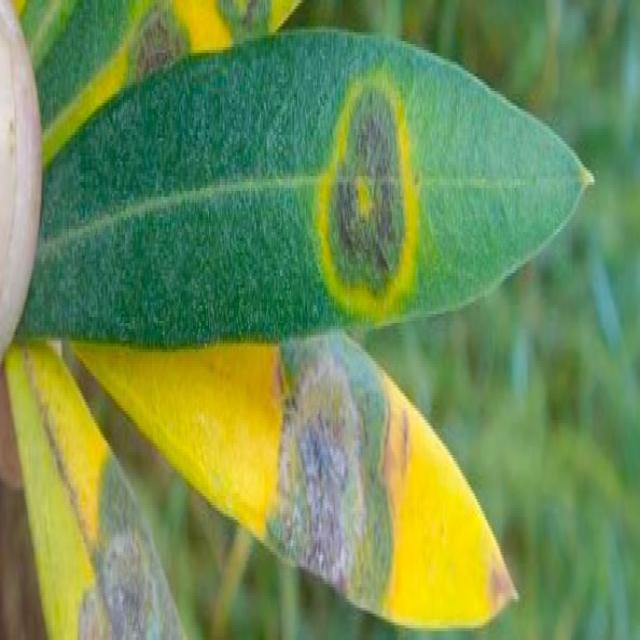Peacock Eye: (25, 29, 593, 346), (80, 335, 515, 637), (6, 343, 186, 637)
